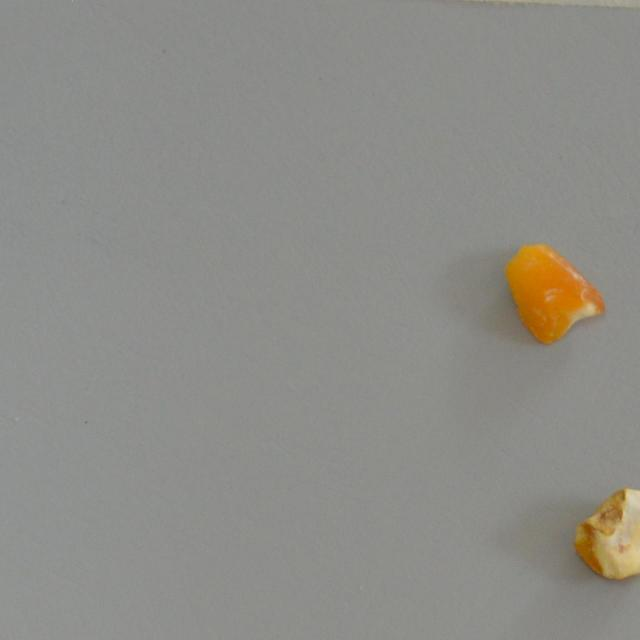dañado: (500, 237, 610, 347), (571, 477, 640, 589)
